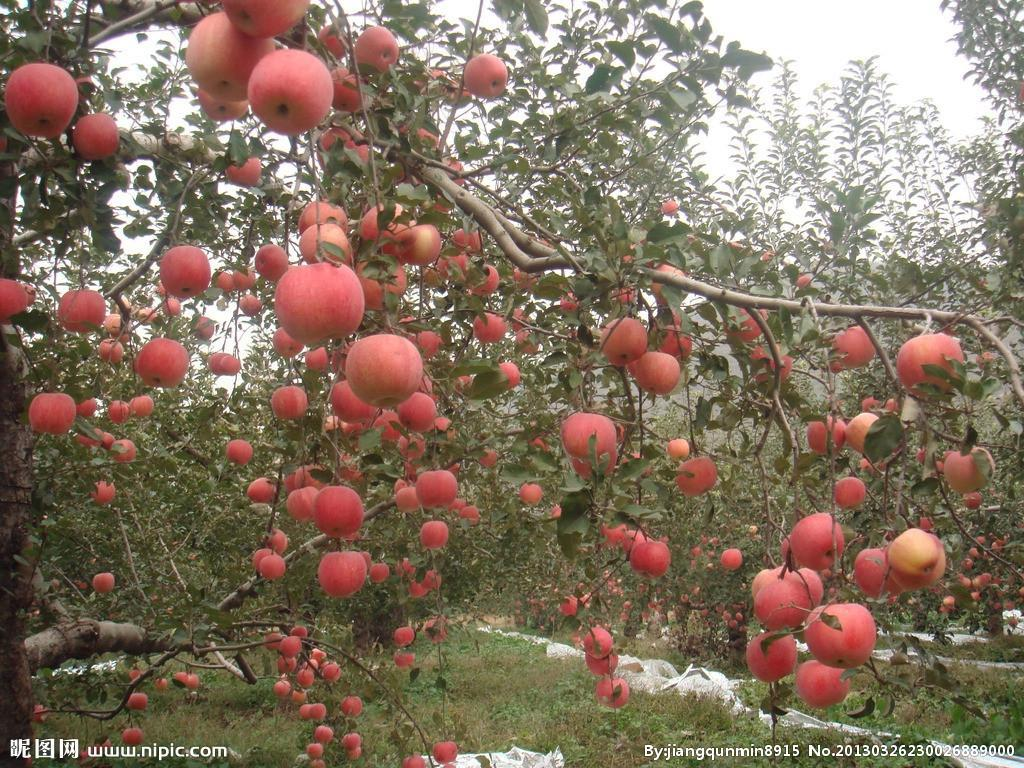apple: (275, 257, 369, 353), (186, 10, 277, 102), (245, 48, 334, 135), (343, 332, 425, 407), (3, 62, 78, 139), (805, 600, 878, 666), (894, 331, 964, 392), (886, 528, 945, 585), (789, 510, 841, 571), (560, 409, 616, 461), (743, 631, 799, 682), (752, 576, 808, 626), (161, 246, 212, 299), (132, 337, 186, 385), (315, 547, 366, 596), (796, 657, 847, 706), (598, 316, 648, 365), (316, 485, 363, 535), (827, 321, 876, 368), (56, 287, 107, 331), (354, 25, 397, 74), (465, 53, 508, 101), (76, 114, 120, 160), (27, 393, 75, 434), (635, 349, 679, 393), (674, 457, 717, 495), (632, 538, 671, 579), (418, 468, 456, 508), (271, 385, 309, 421), (829, 473, 864, 510), (288, 487, 318, 520)
